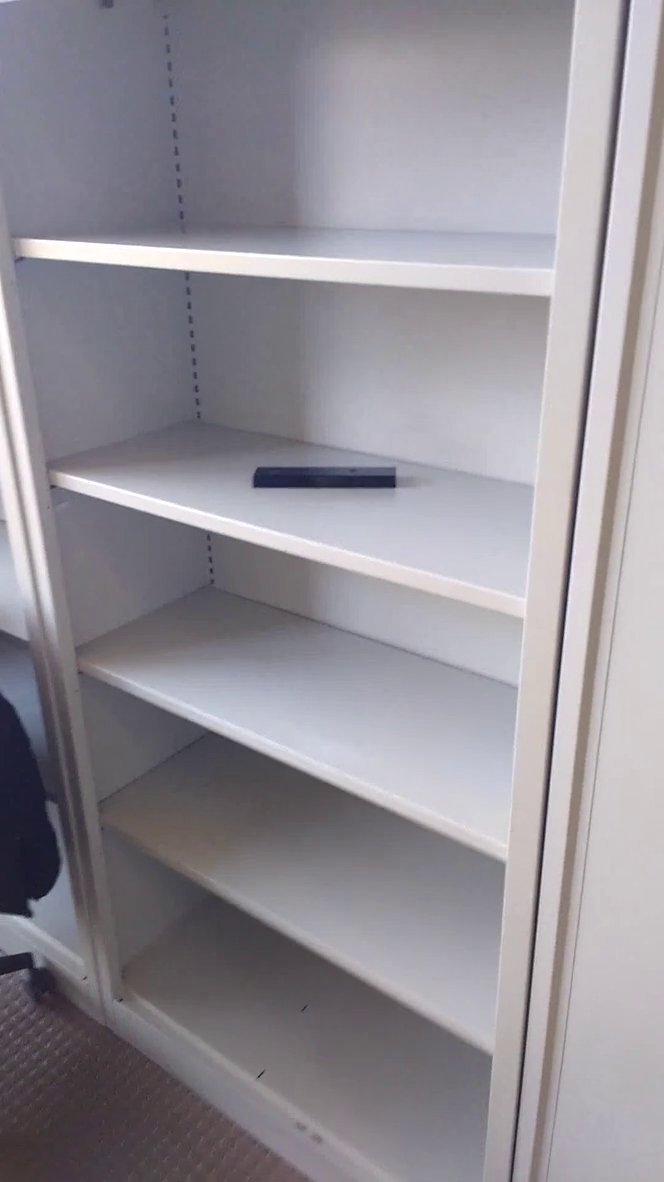remote: (244, 447, 407, 507)
